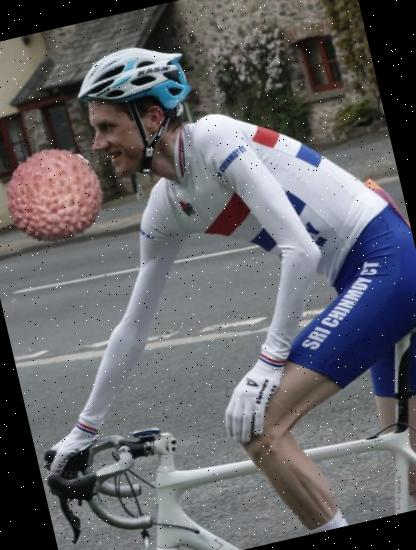Lychee: (0, 136, 113, 255)
